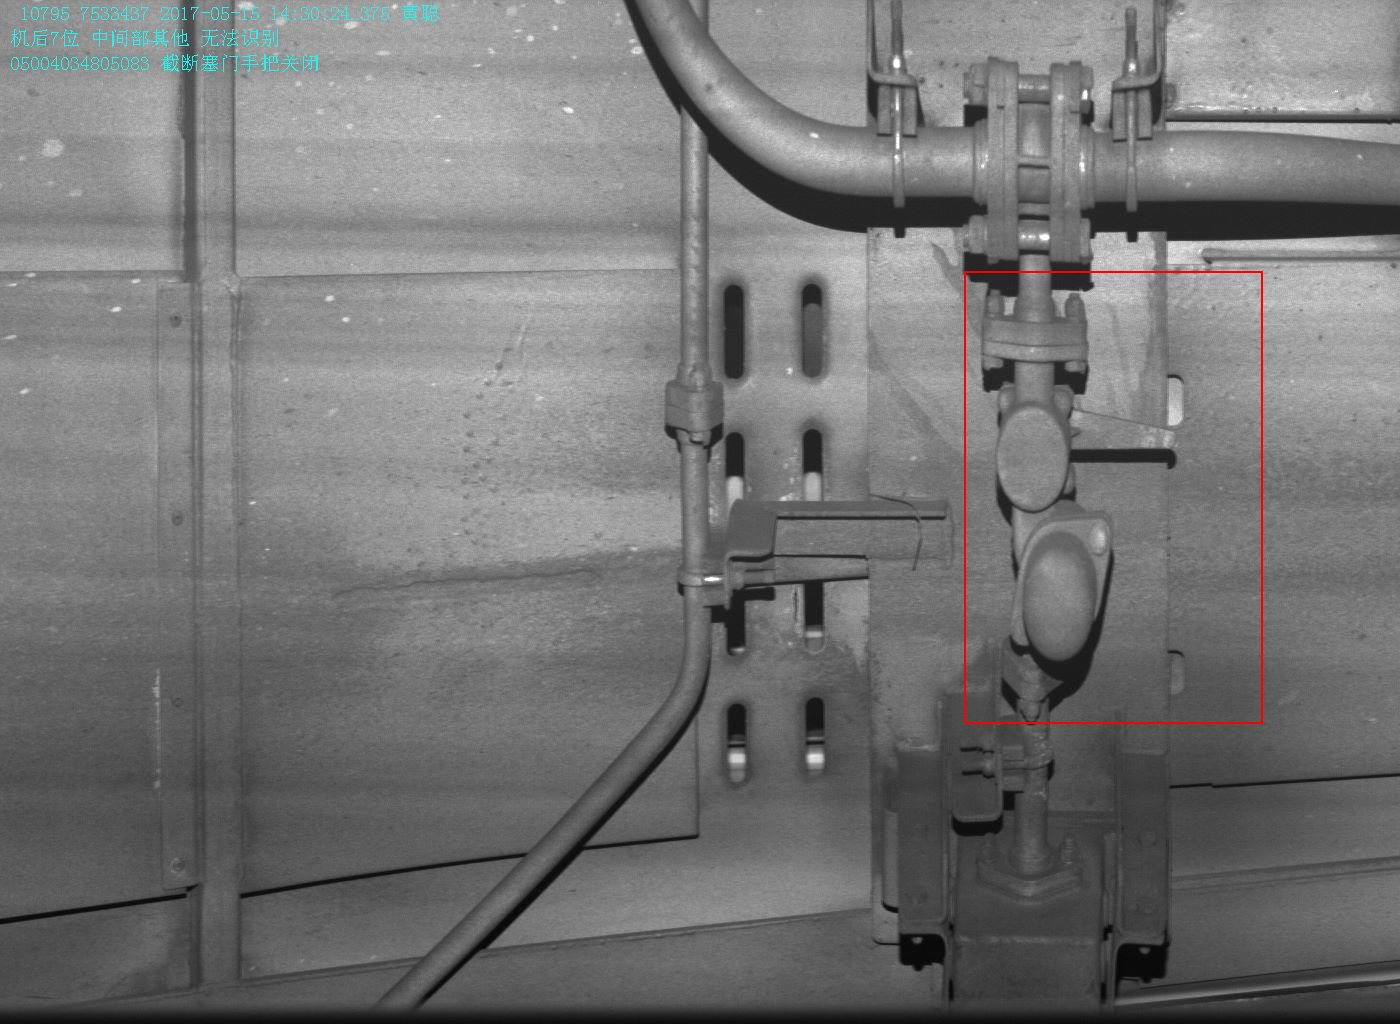truncated plug door handle: (997, 386, 1178, 511)
